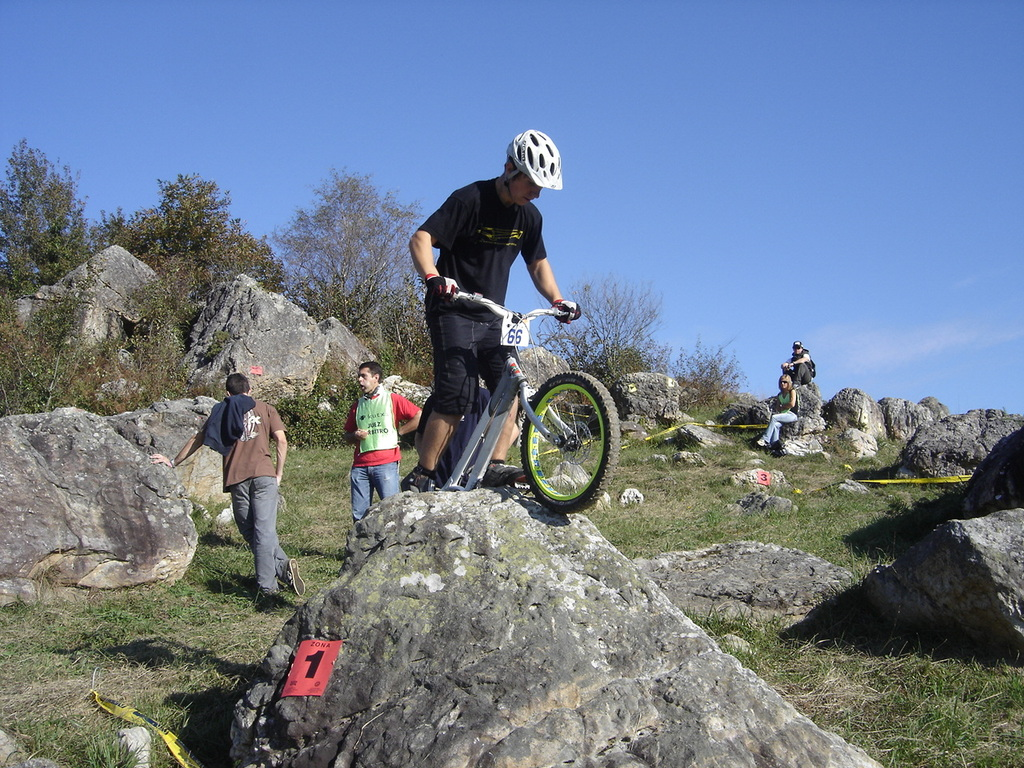Bike: (390, 273, 630, 529)
